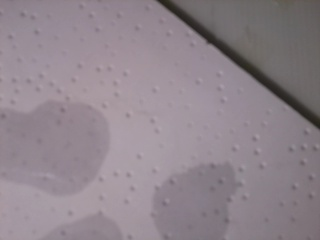Water_detected: (0, 110, 92, 191), (155, 176, 212, 234)
